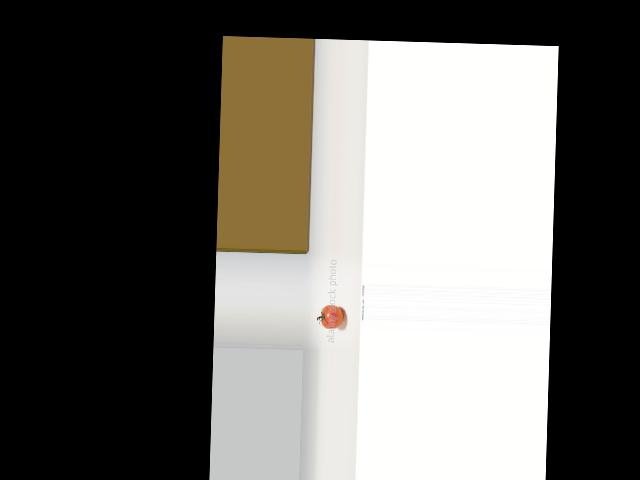tomato: (320, 304, 343, 329)
